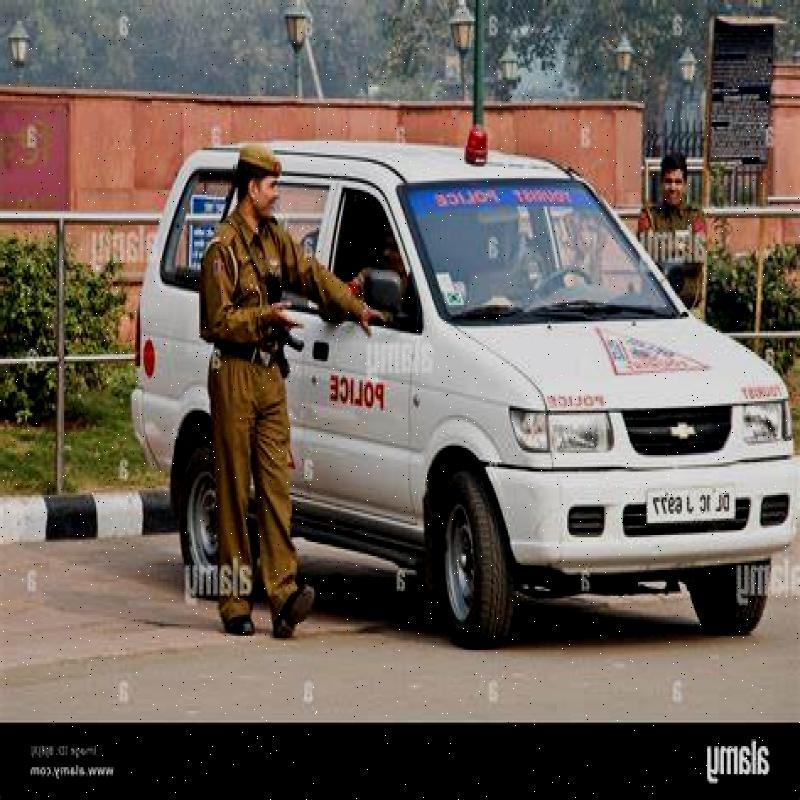AmbulanceSiren: (448, 118, 493, 183)
car: (122, 88, 764, 614)
